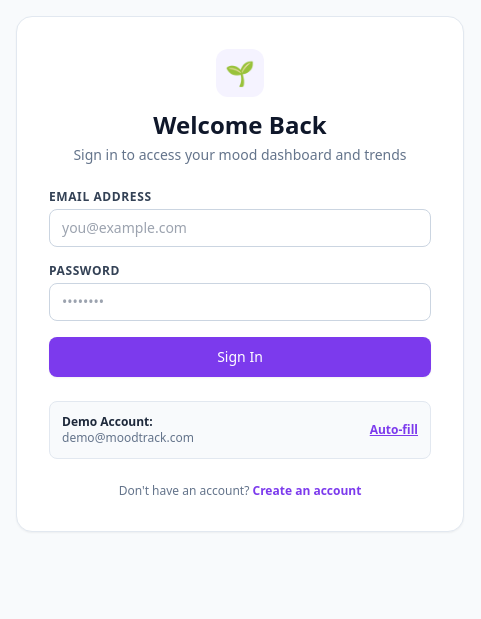
Scenario: Frontend: Authentication Pages › LoginPage › displays error message when login fails
The width and height of the screenshot is (481, 619).
In the field with placeholder "you@example.com": coordinates (240, 228) left=49, top=209, right=431, bottom=247, type "wrong@example.com"
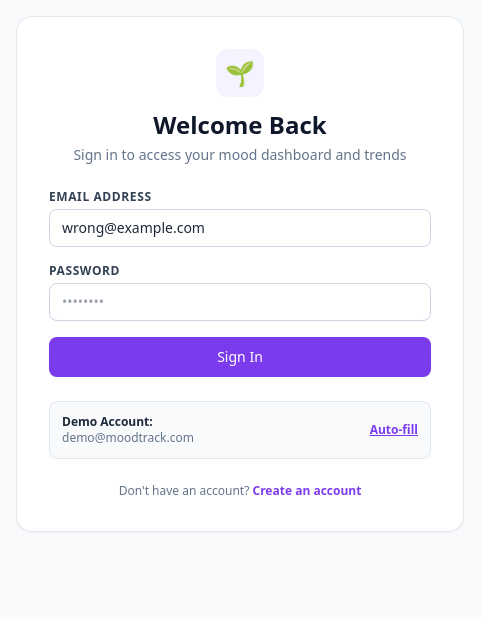
In the password field with placeholder "••••••••": coordinates (240, 302) left=49, top=283, right=431, bottom=321, type "WrongPass"
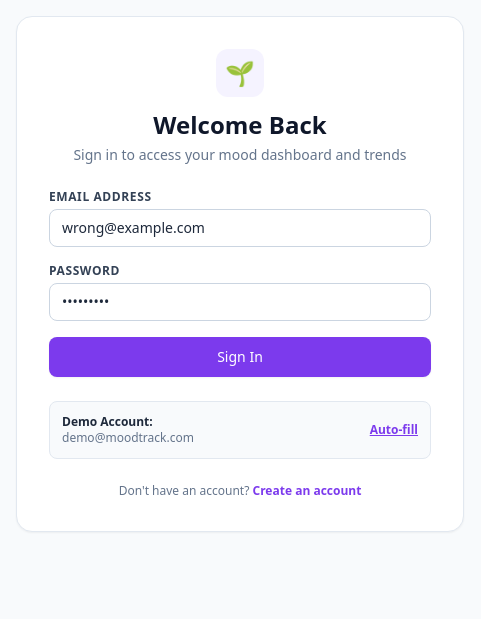
Click the button "Sign In": coordinates (240, 357) left=49, top=337, right=431, bottom=377
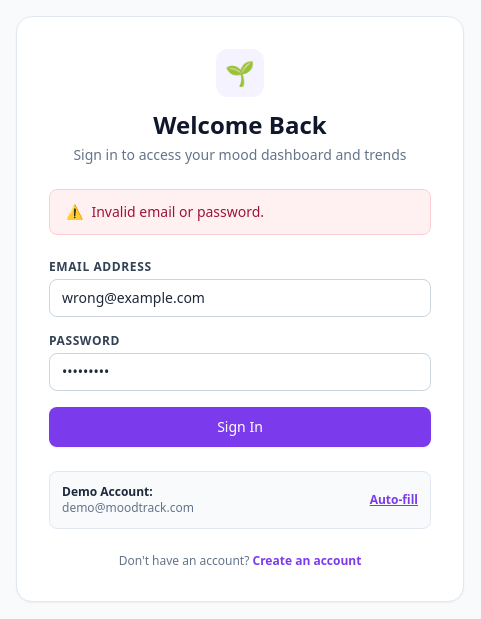
Result: the text "Invalid email or password." is shown at left=92, top=202, right=264, bottom=222
